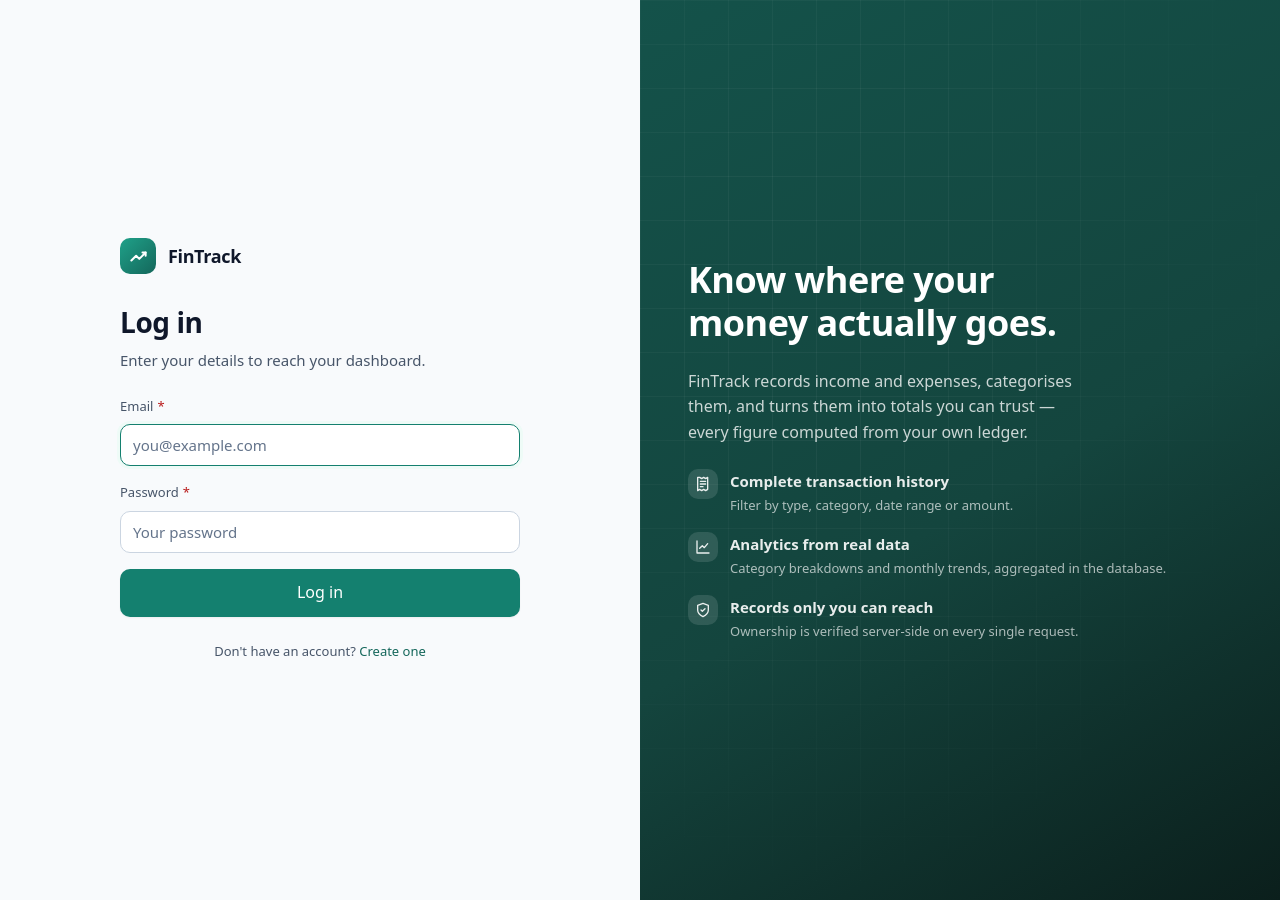
Test: LoginPage › shows the backend message on failure and stays on the form
In the field labelled "Email *": (320, 445) [120,424,520,466], type "priya@fintrack.test"
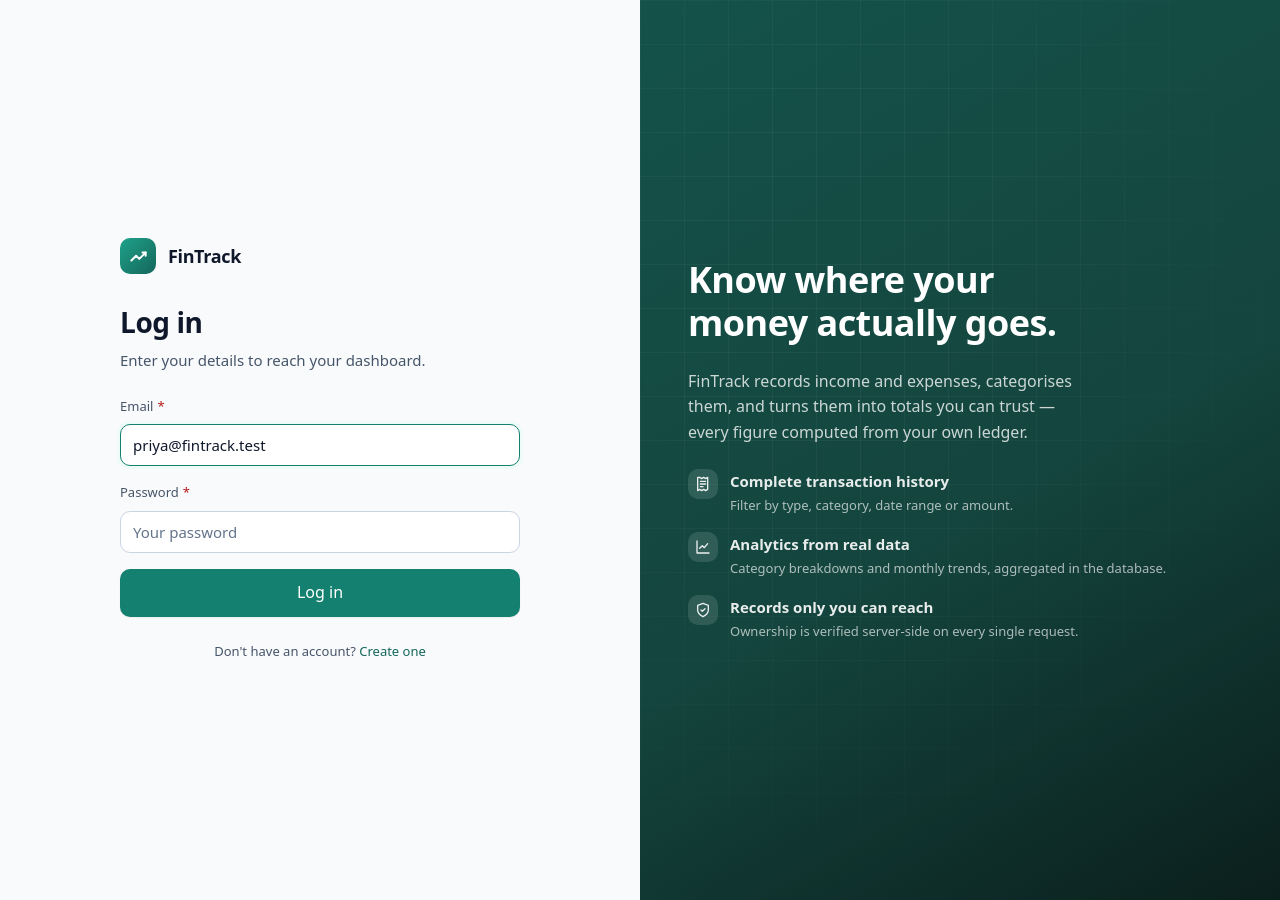
In the password field labelled "Password *": (320, 532) [120,511,520,553], type "WrongPassword1"
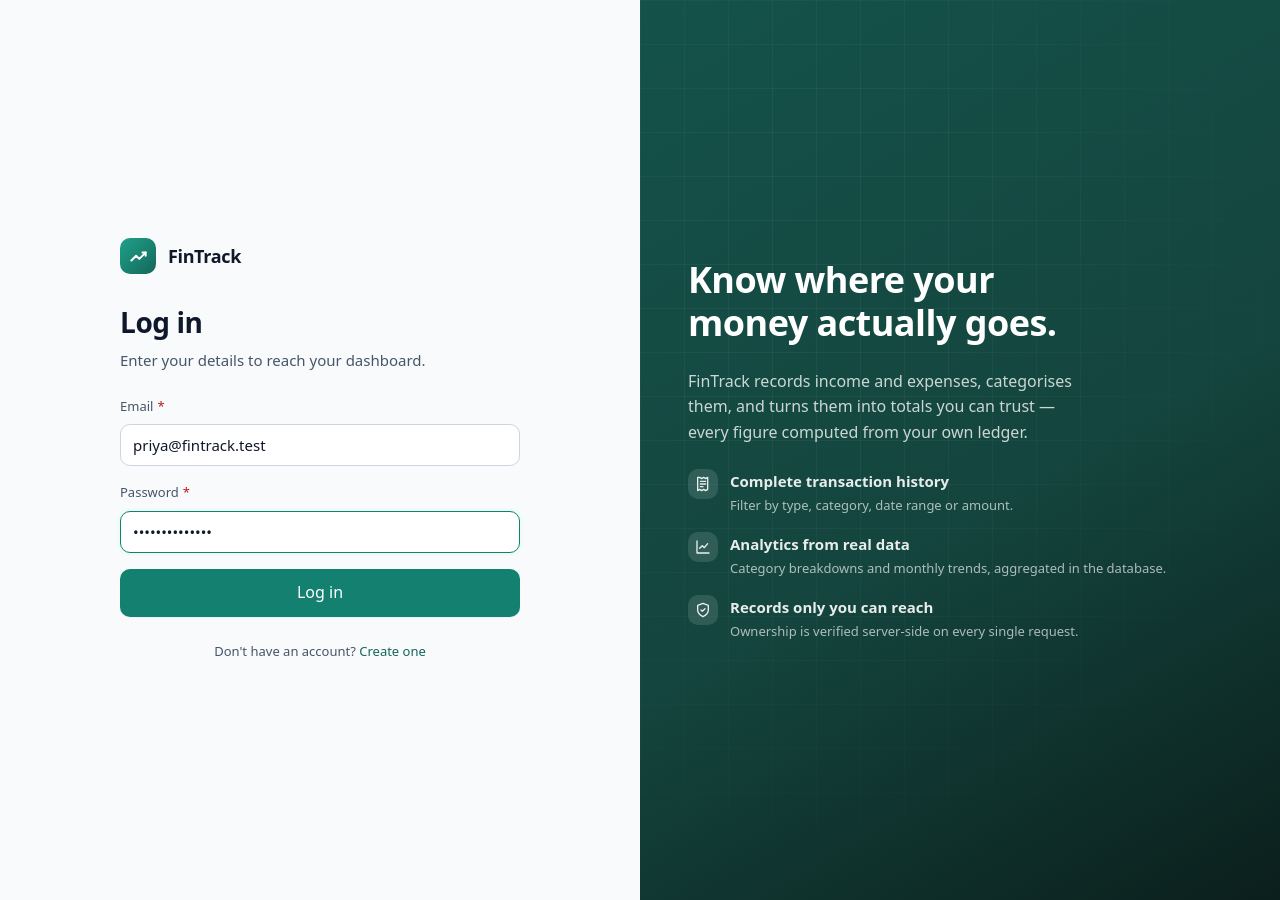
Click the button "Log in": click(320, 593) [120,569,520,617]
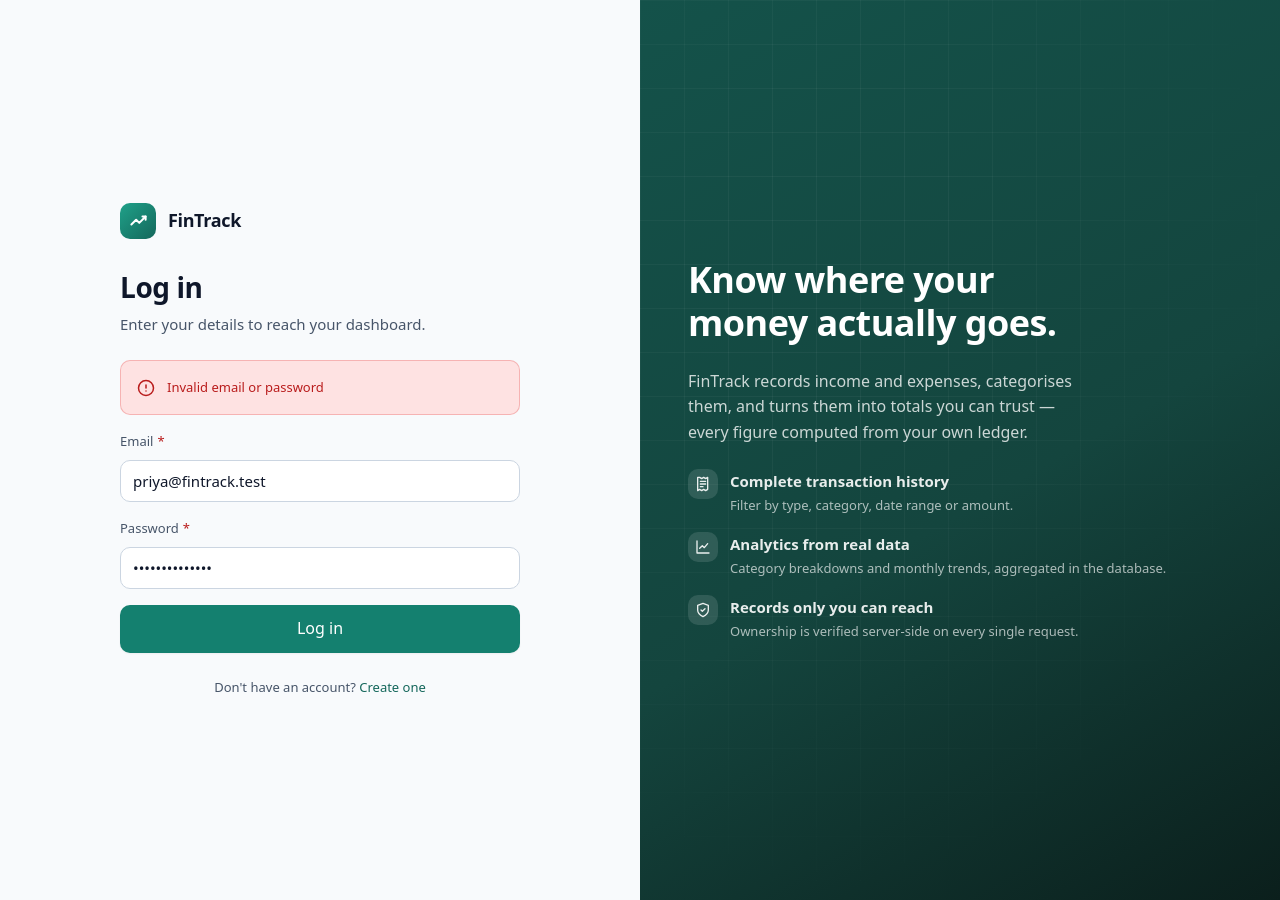
Expected: the message reads "Invalid email or password", [167,378,324,396]
